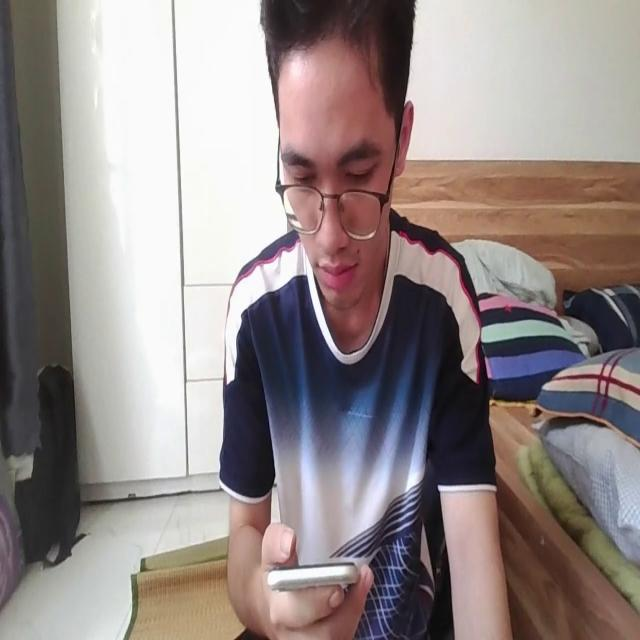phone: (269, 549, 359, 607)
student: (219, 0, 526, 640)
